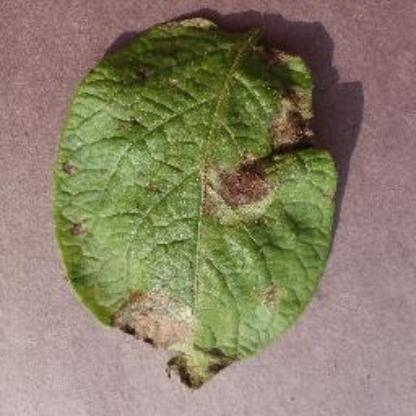Late-Blight: (55, 9, 344, 390)
